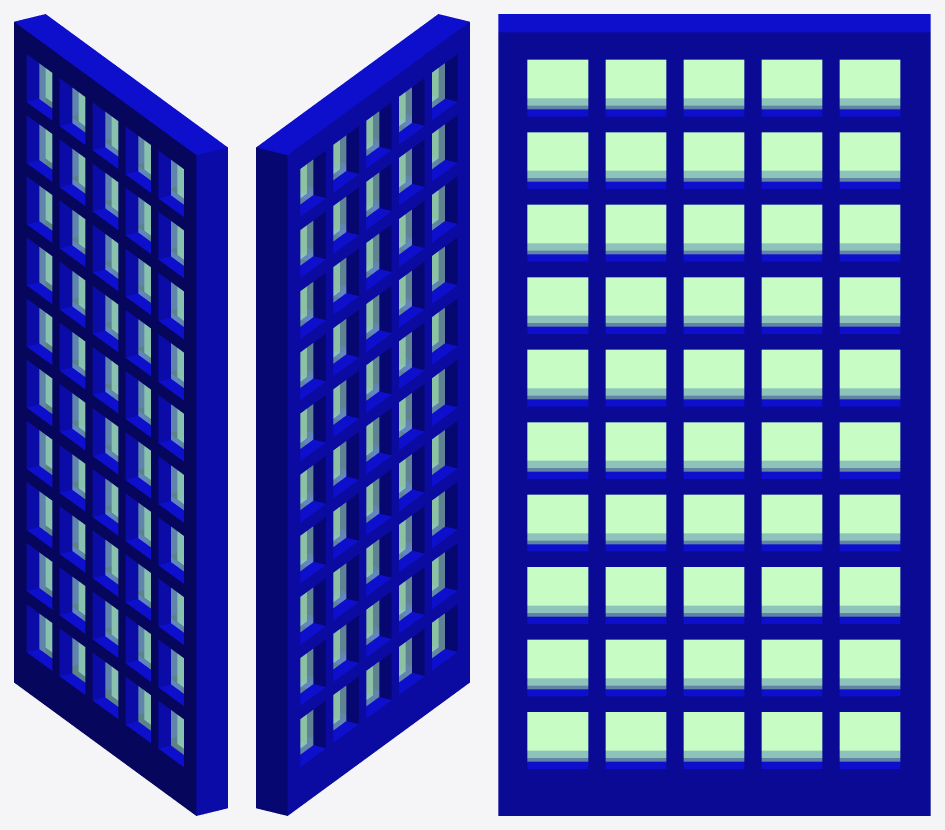
The model's file is MSH_A_Door_B_Right.glb.
The picture shows the model from 3 angles, left to right: view 1: azimuth 30°, elevation 25°; view 2: azimuth 150°, elevation 25°; view 3: azimuth 270°, elevation 25°; orthographic projection. The views are drawn at different scales.
Visible parts, largest first — view 1: Room A - Door_Right_B; view 2: Room A - Door_Right_B; view 3: Room A - Door_Right_B.
Part boxes in pixels (bbox=[...]): Room A - Door_Right_B: bbox=[14, 14, 227, 815]; Room A - Door_Right_B: bbox=[256, 14, 469, 815]; Room A - Door_Right_B: bbox=[498, 14, 930, 815].
Size of the model in its own units: 0.1 by 2 by 1.
